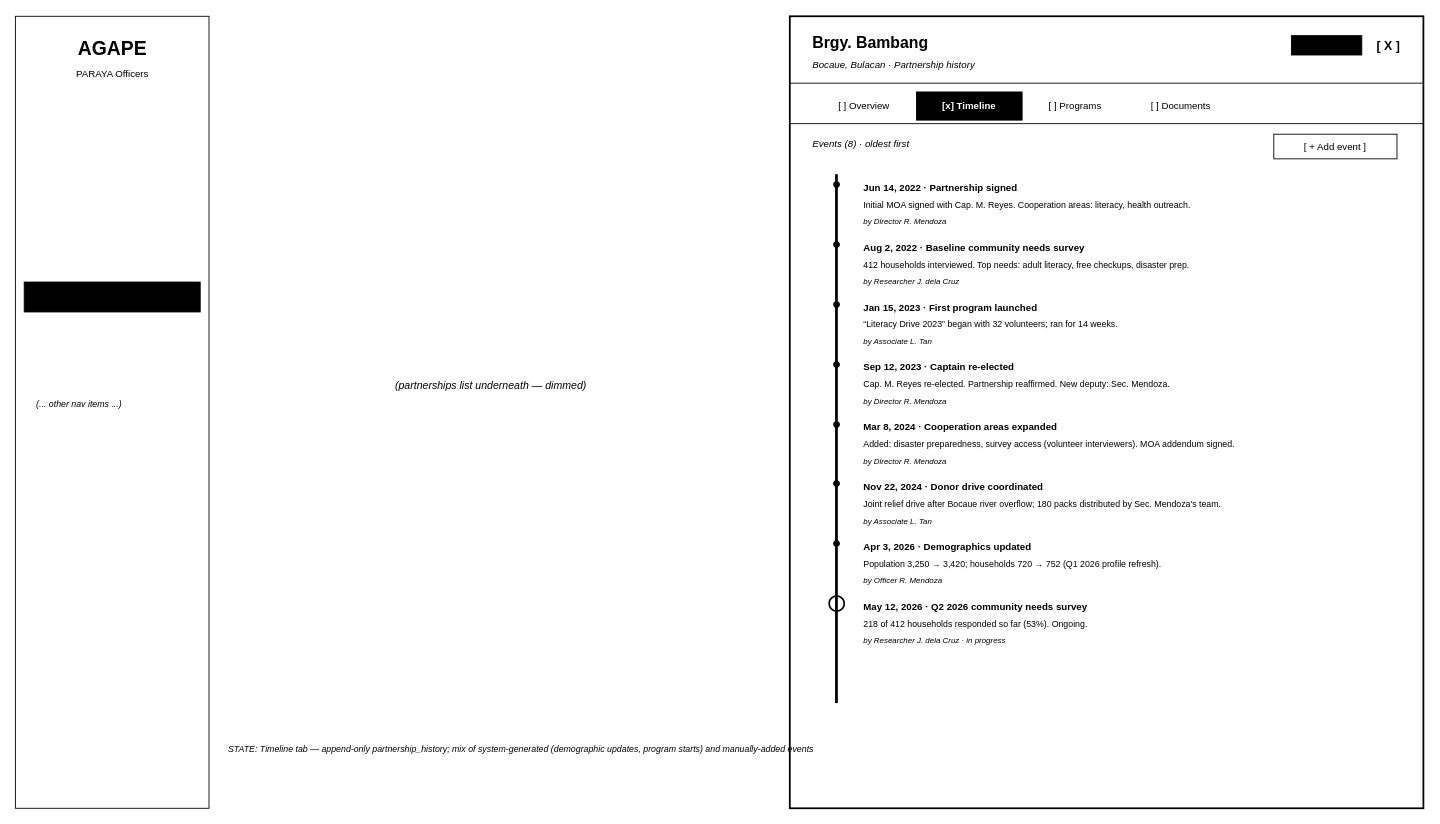
The diagram is 1440 pixels wide and 824 high, and some of its shapes have lost their labels. Each missing label, with the centre of its shape:
( active ): [1326,45]
[x] Partnerships: [111,296]
